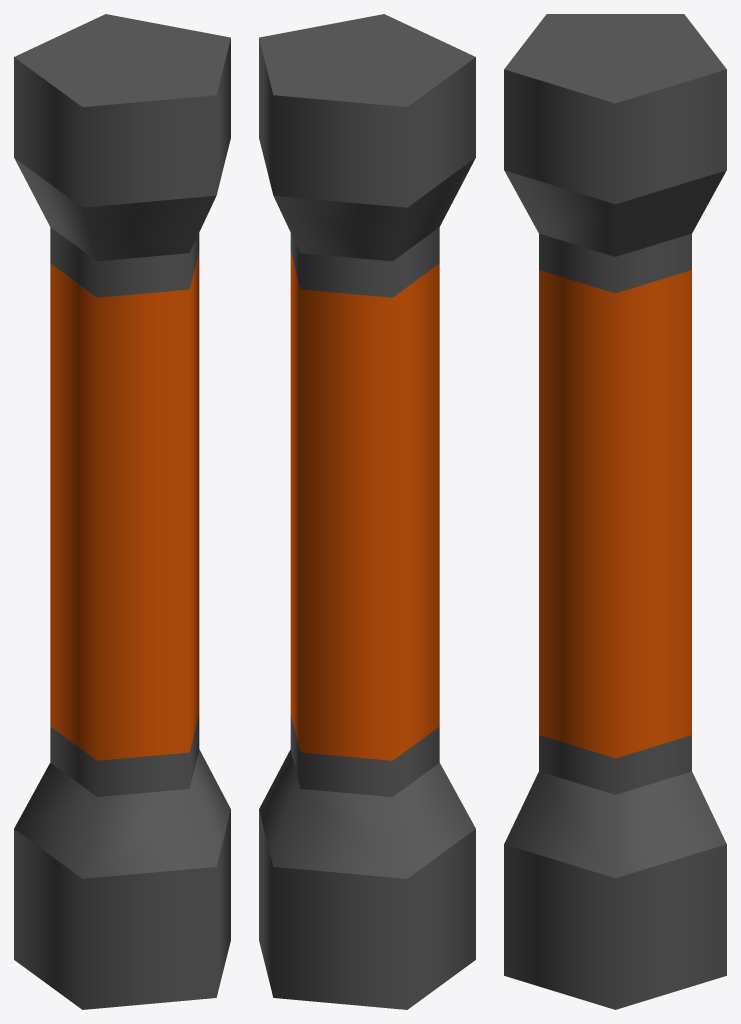
The model's file is env_ruin_pillar_01_lod1.fbx.
3 renders of one model, left to right at view 1: azimuth 30°, elevation 25°; view 2: azimuth 150°, elevation 25°; view 3: azimuth 270°, elevation 25°, orthographic.
Parts seen in each view (by area): view 1: env_ruin_pillar_01_lod0.003; view 2: env_ruin_pillar_01_lod0.003; view 3: env_ruin_pillar_01_lod0.003.
Boxes of the visible parts, <box> form: env_ruin_pillar_01_lod0.003: <box>14,14,230,1009</box>; env_ruin_pillar_01_lod0.003: <box>259,14,475,1009</box>; env_ruin_pillar_01_lod0.003: <box>504,14,726,1009</box>.
Bounding box in the file's own units: 6.04 × 28.5 × 6.35.
